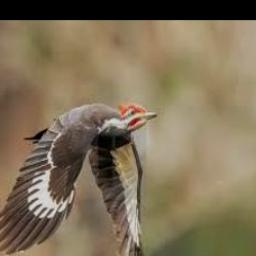Woodpecker: (0, 103, 157, 256)
